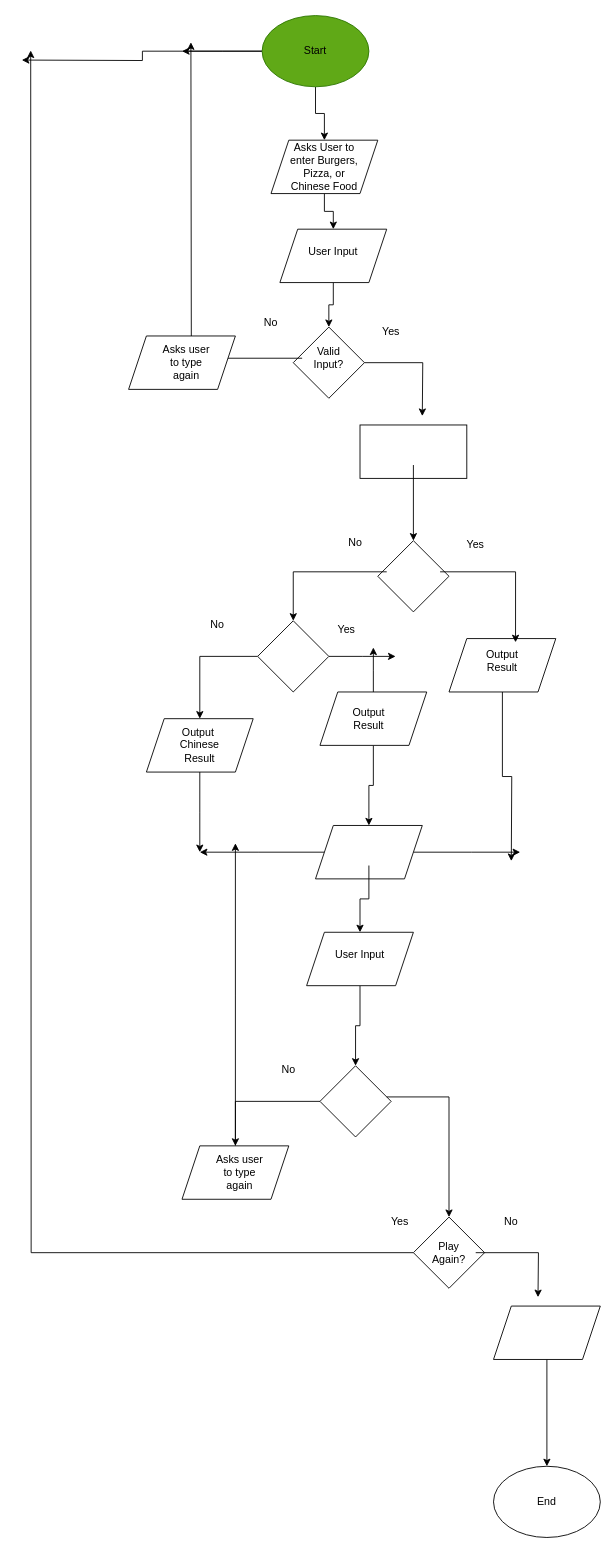
Image size: 616x1553. Some labels were removed from this diagram. The centre of each missing label's shape, as x and y in pixels:
Asks User to Play Again: the point at 368,852
Console Randomly Selects one answer from each catagory: the point at 413,451
Did user select Burgers?: the point at 413,576
Did user select Pizza?: the point at 293,656
Thanks User for playing: the point at 546,1332
Valid Response?: the point at 355,1101
